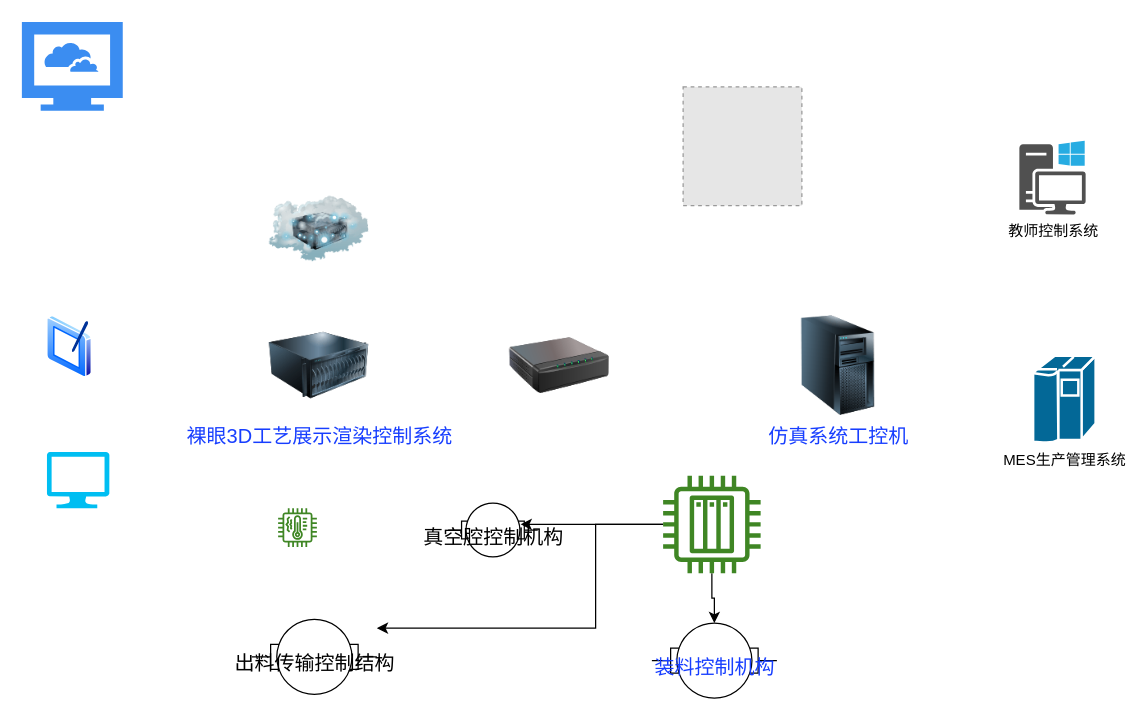
Some shapes in this 1146 by 720 pixel diagram are drawn without their labels. Grey dashed boxes stand in for pictures. Each missing label, with the centre of its shape:
"PLC运动控制系统" belongs at point (711, 523).
"温控平台" belongs at point (297, 527).
"虚拟现实渲染服务器" belongs at point (559, 365).
